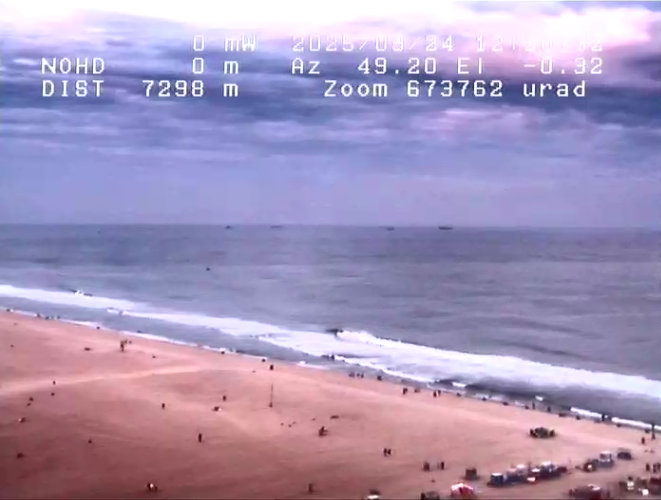TANKER: (432, 220, 459, 233)
